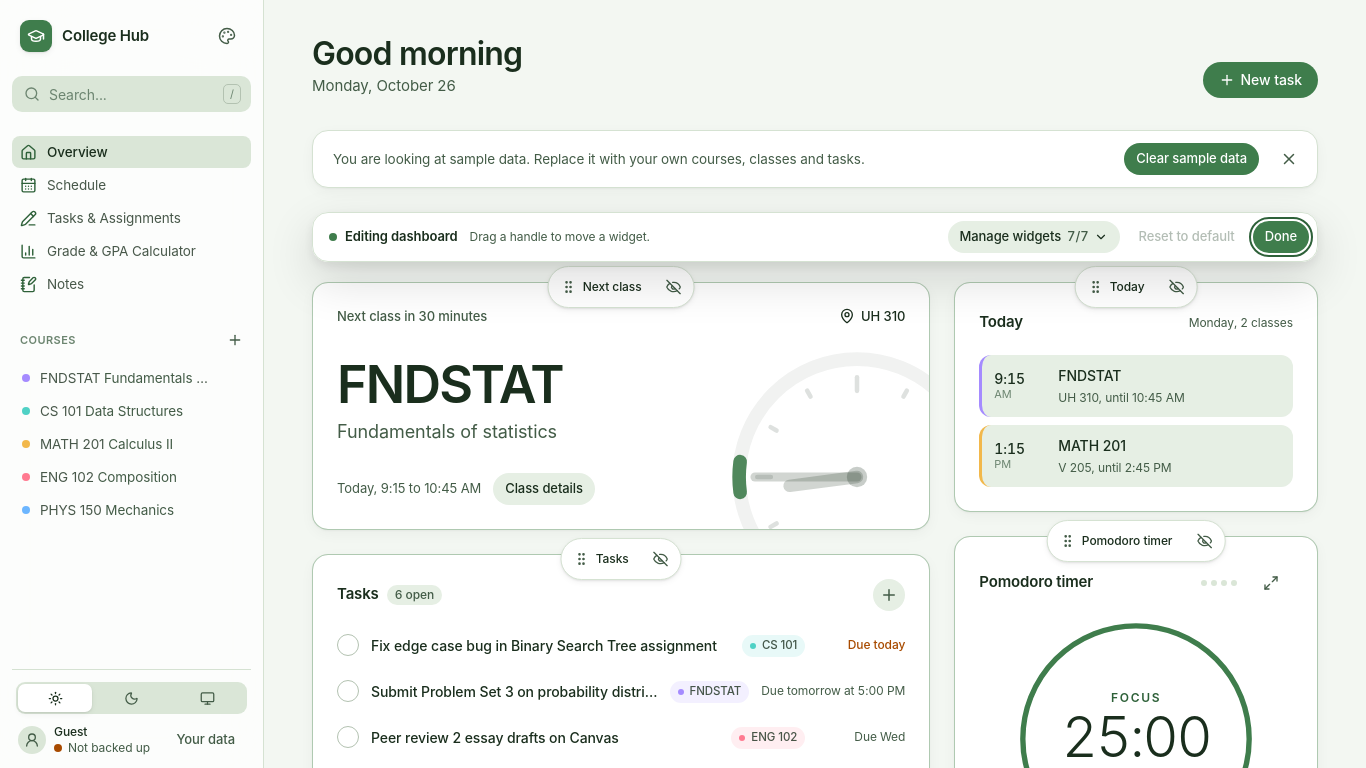
Test case: customizing the dashboard › asks before resetting, then restores the default and says so
Earlier steps of the test are not shown.
Check: the button "Reset to default" is disabled, box 1126,221 -> 1247,253
Click the button named "Hide Tasks".
click(661, 559)  # box 643,541 -> 679,577
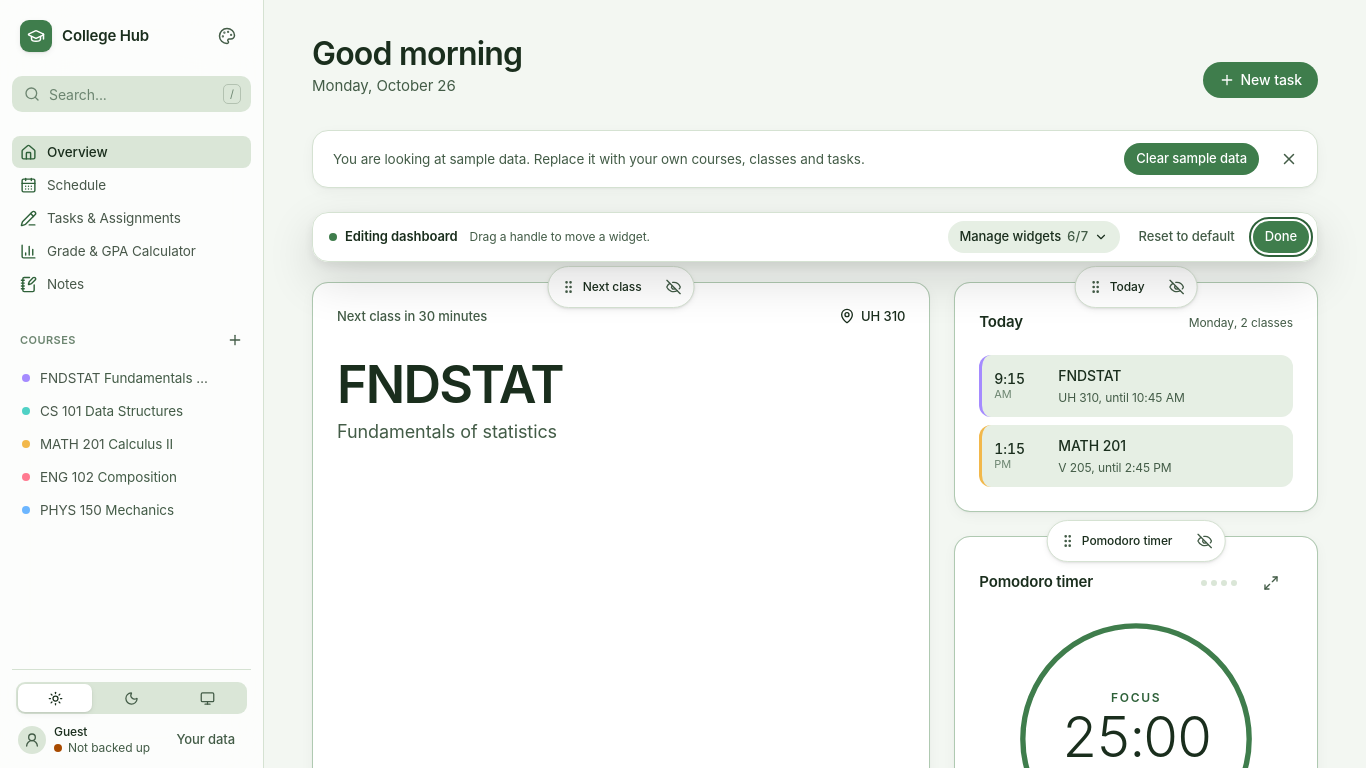
Click the button named "Hide Today".
click(1176, 287)  # box 1158,269 -> 1194,305
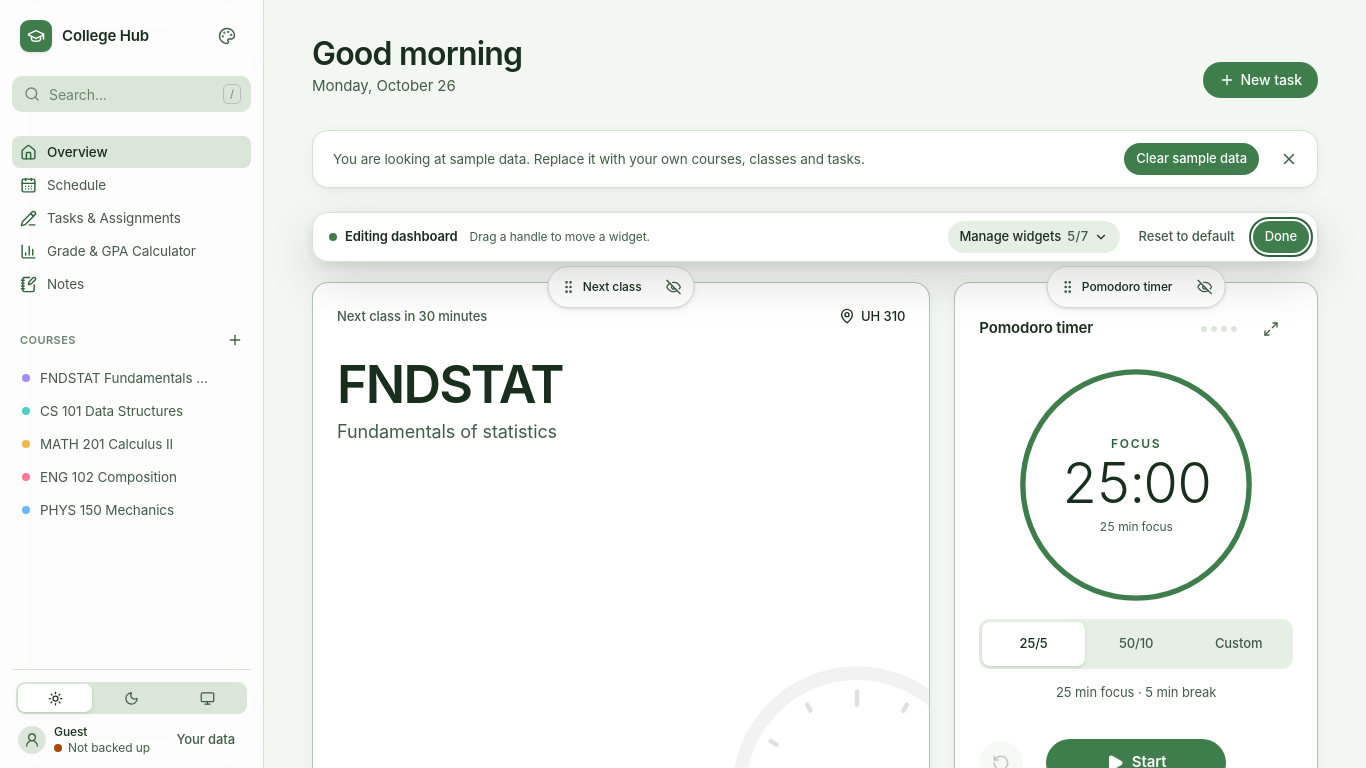
Check: the button "Reset to default" is enabled
Click the button "Reset to default".
click(1187, 237)  # box 1126,221 -> 1247,253
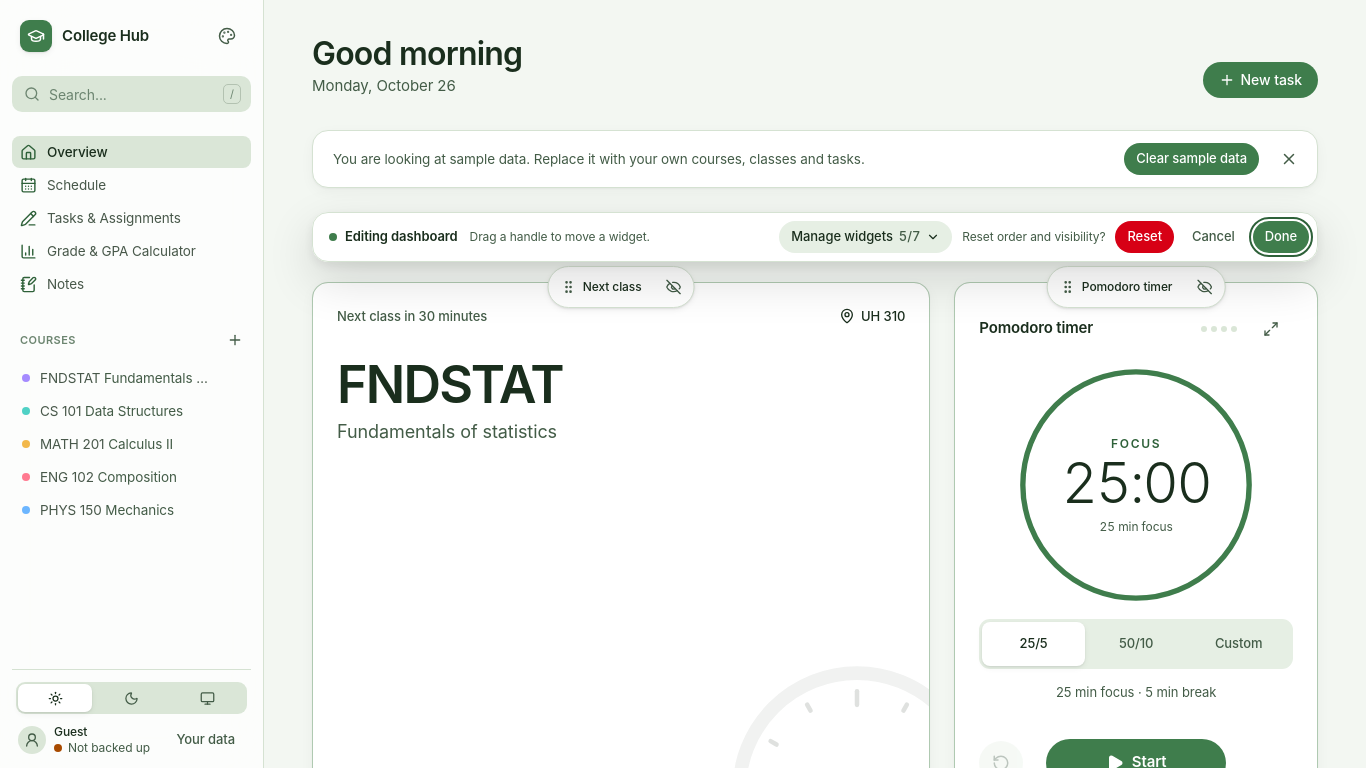
Click the button "Cancel".
click(1213, 237)  # box 1180,221 -> 1247,253
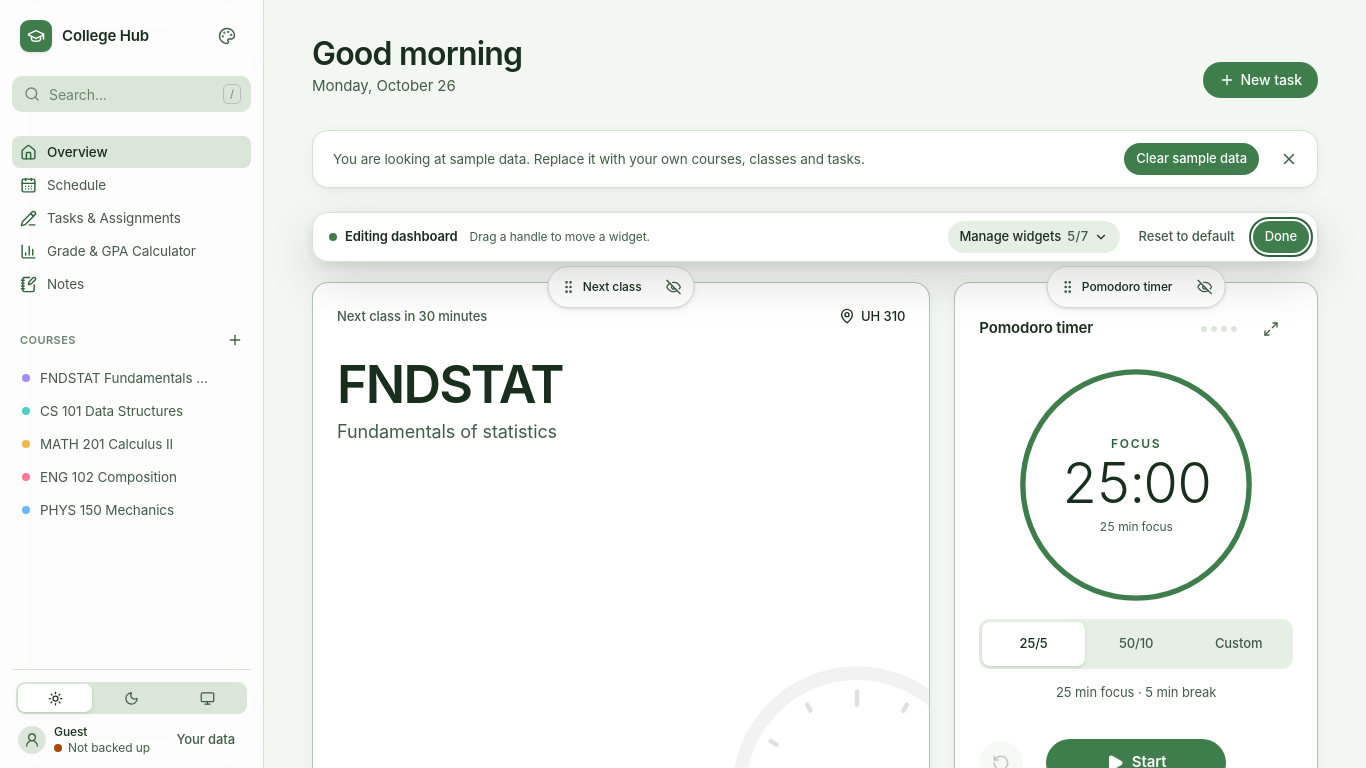
Click the button "Reset to default".
click(1187, 237)  # box 1126,221 -> 1247,253
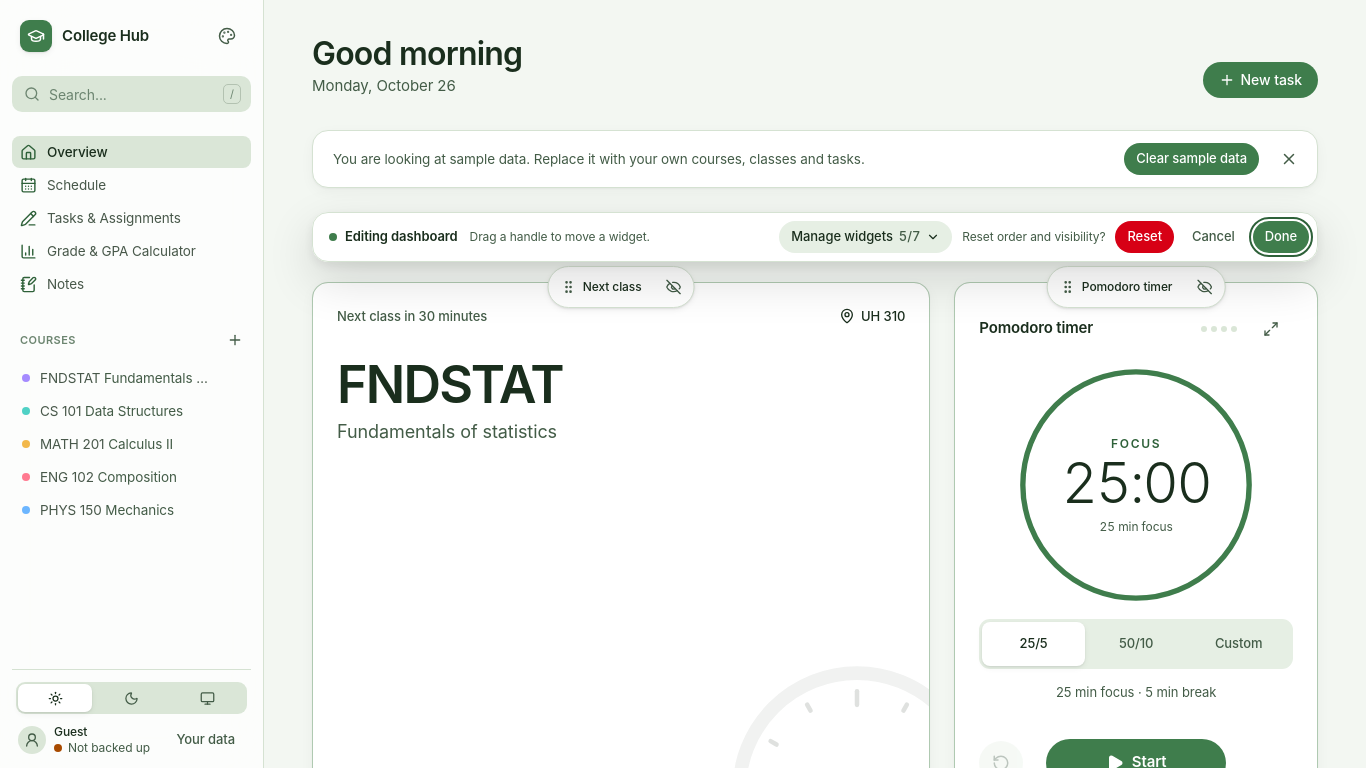
Click the button "Reset".
click(1145, 237)  # box 1116,221 -> 1174,253
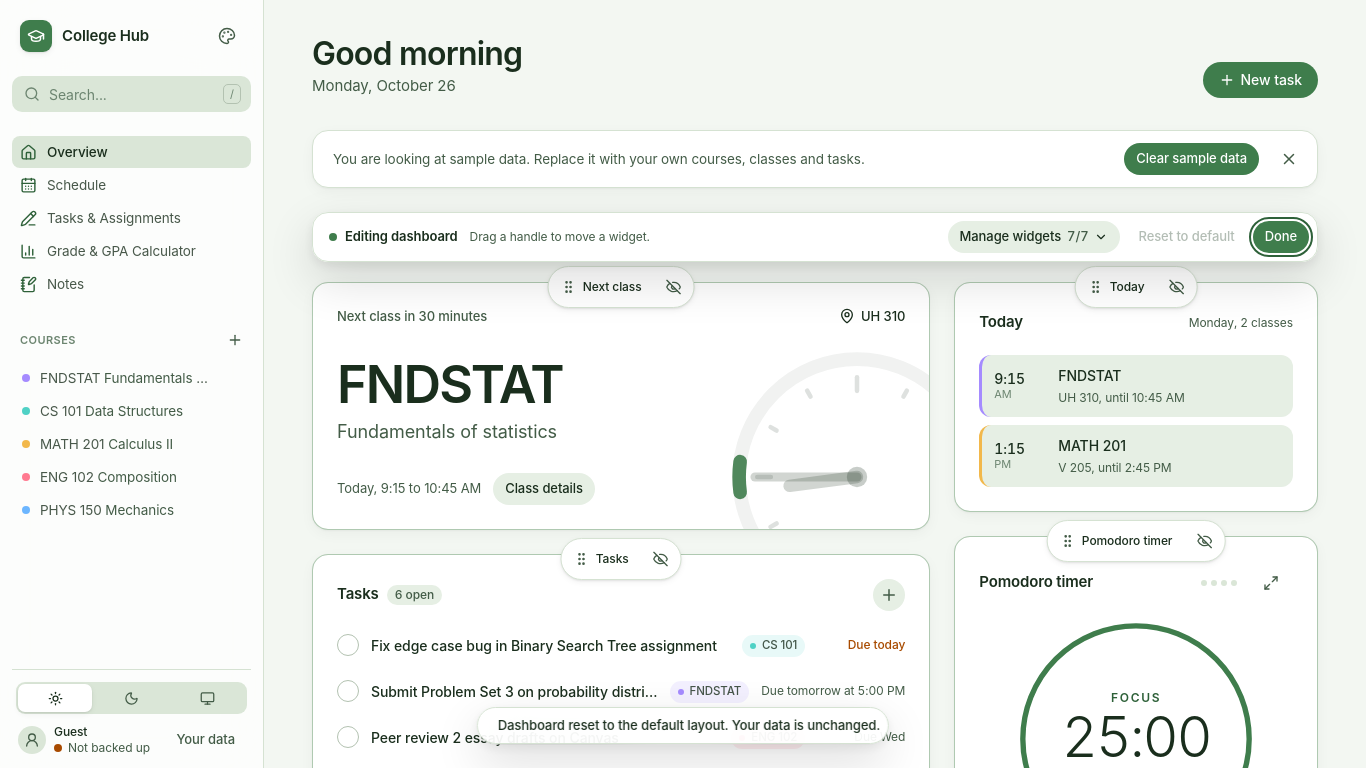
Check: the text "Dashboard reset to the default layout. Your data is unchanged." is shown, box 498,716 -> 880,735
